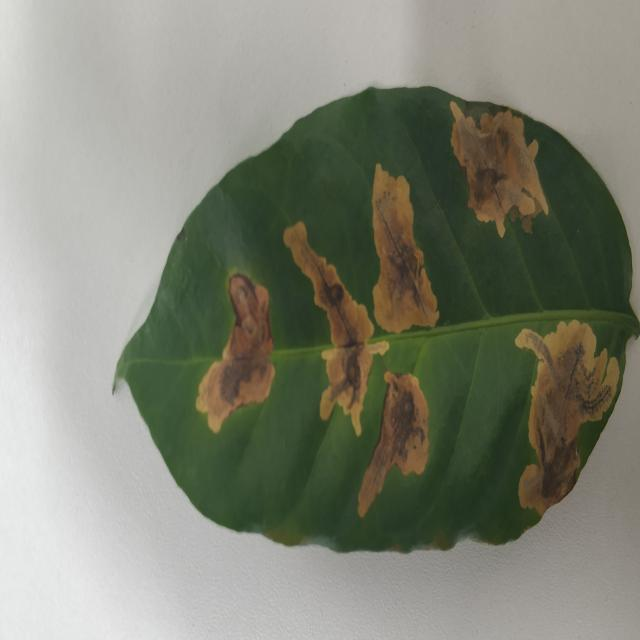Plaga-Minador: (112, 86, 640, 557)
